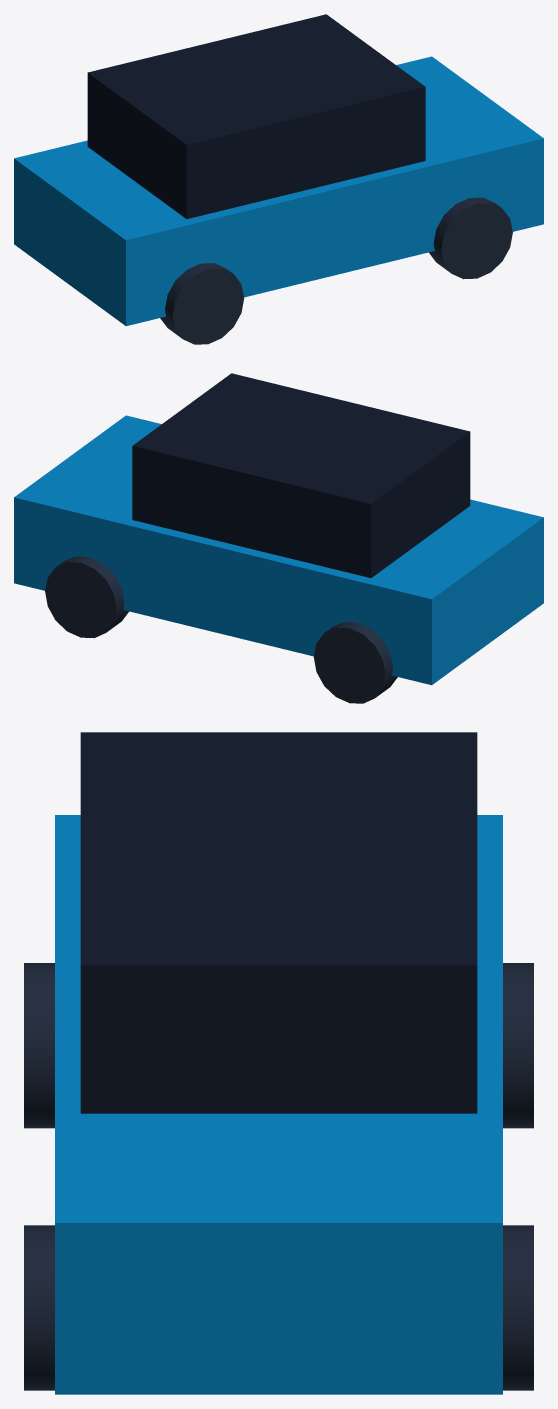
Rendered from car.glb.
The picture shows the model from 3 angles, top to bottom: view 1: azimuth 30°, elevation 25°; view 2: azimuth 150°, elevation 25°; view 3: azimuth 270°, elevation 25°; orthographic projection. The views are drawn at different scales.
Size of the model in its own units: 2.8 by 1.22 by 1.48.
